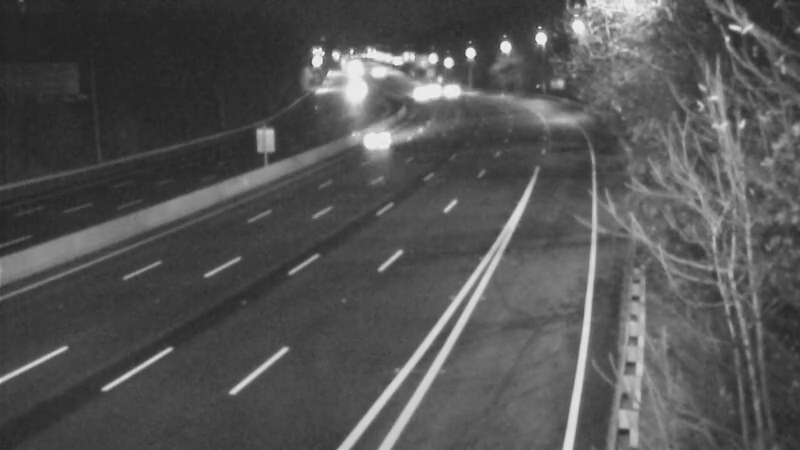vehicle: (409, 66, 459, 116), (395, 69, 445, 119), (428, 67, 478, 117), (352, 113, 402, 163), (327, 65, 377, 115)
